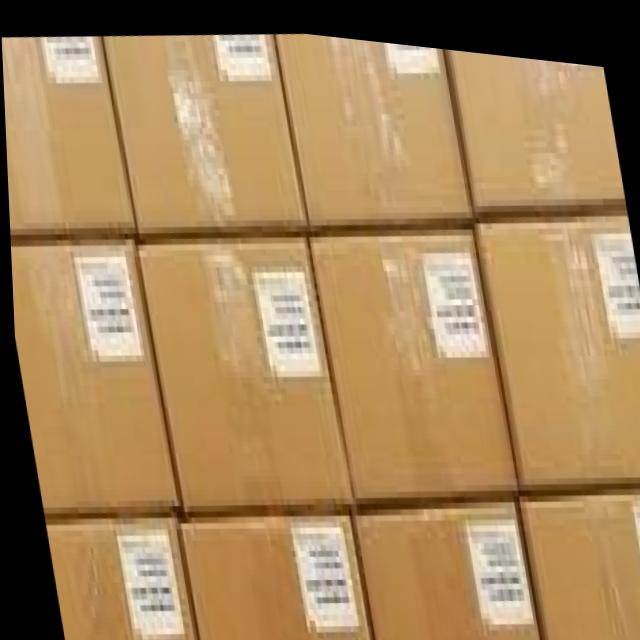box: (132, 233, 351, 512), (306, 218, 517, 502), (473, 204, 640, 487), (8, 237, 176, 512), (101, 31, 304, 237), (272, 28, 474, 226), (446, 39, 625, 211), (350, 488, 541, 640), (174, 503, 370, 640), (1, 37, 131, 240), (517, 478, 640, 640), (43, 508, 192, 640)
